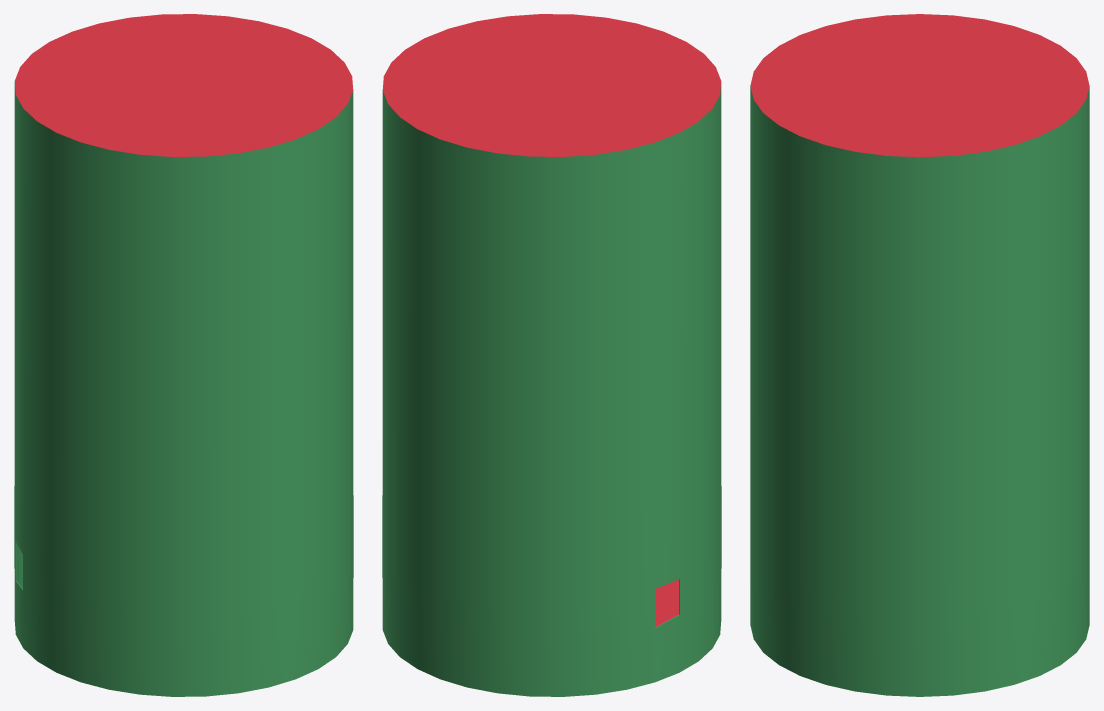
The model's file is Museum_Shell_Room_1.fbx.
The picture shows the model from 3 angles, left to right: view 1: azimuth 30°, elevation 25°; view 2: azimuth 150°, elevation 25°; view 3: azimuth 270°, elevation 25°; orthographic projection.
Visible parts, largest first — view 1: Room_1; view 2: Room_1; view 3: Room_1.
Part boxes in pixels (bbox=[...]): Room_1: bbox=[14, 14, 353, 696]; Room_1: bbox=[382, 14, 721, 696]; Room_1: bbox=[750, 14, 1089, 696].
Bounding box in the file's own units: 4460 × 7820 × 4460.
